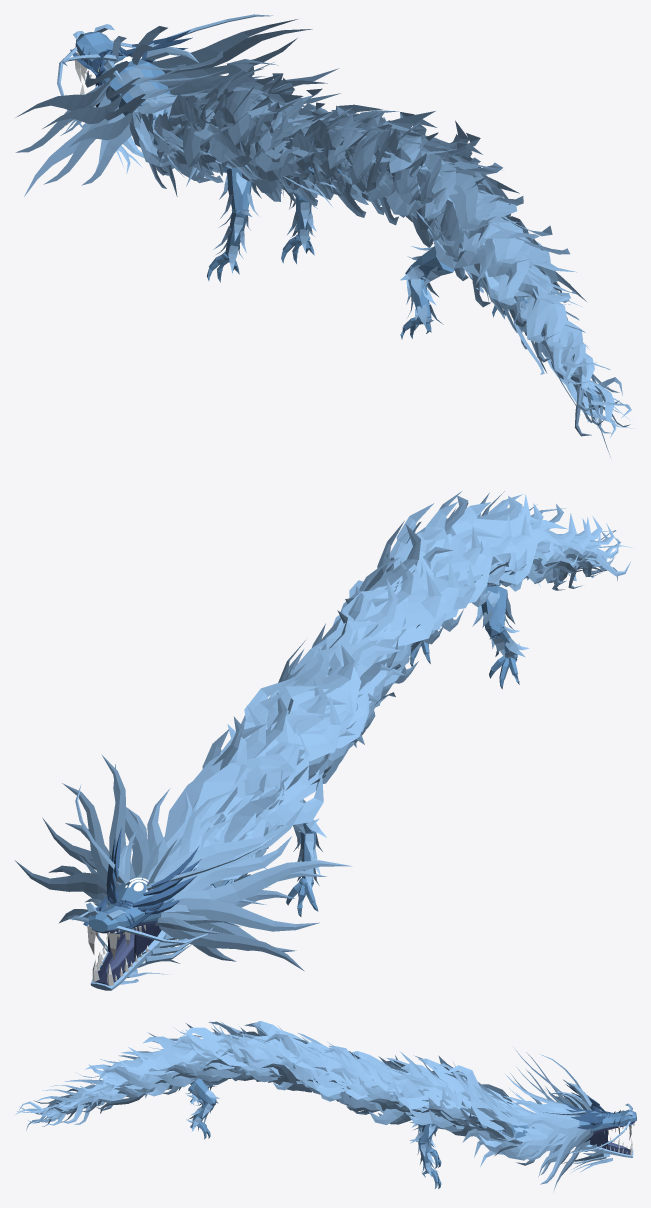
Rendered from Dragon_Cristal_v5.glb.
3 renders of one model, top to bottom at view 1: azimuth 30°, elevation 25°; view 2: azimuth 150°, elevation 25°; view 3: azimuth 270°, elevation 25°, orthographic. The views are drawn at different scales.
Visible parts, largest first — view 1: Head_Blades, Seg27_Blades, Seg08_Blades, Seg29_Blades, Seg28_Blades, Seg06_Blades, Seg24_Blades, Seg09_Blades, Seg26_Blades, Seg22_Blades, Seg05_Blades, Seg19_Blades (+31 smaller); view 2: Head_Blades, Seg06_Blades, Seg05_Blades, Seg08_Blades, Seg16_Blades, Seg19_Blades, Head_Brows, Seg18_Blades, Seg13_Blades, Seg22_Blades, Seg14_Blades, Seg09_Blades (+17 smaller); view 3: Head_Blades, Seg05_Blades, Seg06_Blades, Seg19_Blades, Seg27_Blades, Seg07_Blades, Seg09_Blades, Seg11_Blades, Seg24_Blades, Seg12_Blades, Seg22_Blades, Seg10_Blades (+33 smaller).
Part boxes in pixels (bbox=[...]): Head_Blades: bbox=[15, 14, 340, 196]; Seg27_Blades: bbox=[427, 190, 552, 261]; Seg08_Blades: bbox=[194, 82, 322, 173]; Seg29_Blades: bbox=[463, 218, 576, 307]; Seg28_Blades: bbox=[433, 216, 569, 284]; Seg06_Blades: bbox=[162, 62, 294, 175]; Seg24_Blades: bbox=[386, 154, 502, 218]; Seg09_Blades: bbox=[207, 94, 337, 176]; Seg26_Blades: bbox=[417, 173, 523, 241]; Seg22_Blades: bbox=[365, 133, 481, 225]; Seg05_Blades: bbox=[162, 59, 278, 182]; Seg19_Blades: bbox=[333, 111, 447, 204]; Head_Blades: bbox=[15, 754, 352, 971]; Seg06_Blades: bbox=[192, 705, 323, 857]; Seg05_Blades: bbox=[165, 716, 284, 880]; Seg08_Blades: bbox=[244, 678, 341, 830]; Seg16_Blades: bbox=[312, 579, 406, 694]; Seg19_Blades: bbox=[340, 524, 459, 654]; Head_Brows: bbox=[83, 827, 201, 934]; Seg18_Blades: bbox=[332, 560, 441, 688]; Seg13_Blades: bbox=[288, 645, 400, 760]; Seg22_Blades: bbox=[396, 503, 503, 631]; Seg14_Blades: bbox=[305, 610, 405, 741]; Seg09_Blades: bbox=[241, 677, 346, 826]; Head_Blades: bbox=[503, 1049, 632, 1190]; Seg05_Blades: bbox=[445, 1062, 522, 1136]; Seg06_Blades: bbox=[438, 1055, 511, 1130]; Seg19_Blades: bbox=[253, 1021, 319, 1092]; Seg27_Blades: bbox=[137, 1036, 209, 1083]; Seg07_Blades: bbox=[414, 1055, 479, 1136]; Seg09_Blades: bbox=[382, 1058, 453, 1129]; Seg11_Blades: bbox=[358, 1063, 429, 1124]; Seg24_Blades: bbox=[183, 1023, 251, 1079]; Seg12_Blades: bbox=[341, 1051, 411, 1120]; Seg22_Blades: bbox=[208, 1021, 282, 1082]; Seg10_Blades: bbox=[369, 1056, 439, 1123].
Size of the model in its own units: 41.92 by 32.66 by 116.
